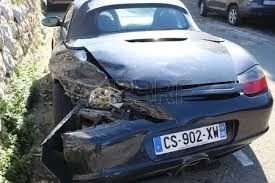Broken-glass: (77, 86, 126, 114)
Smashed: (47, 49, 141, 176)
